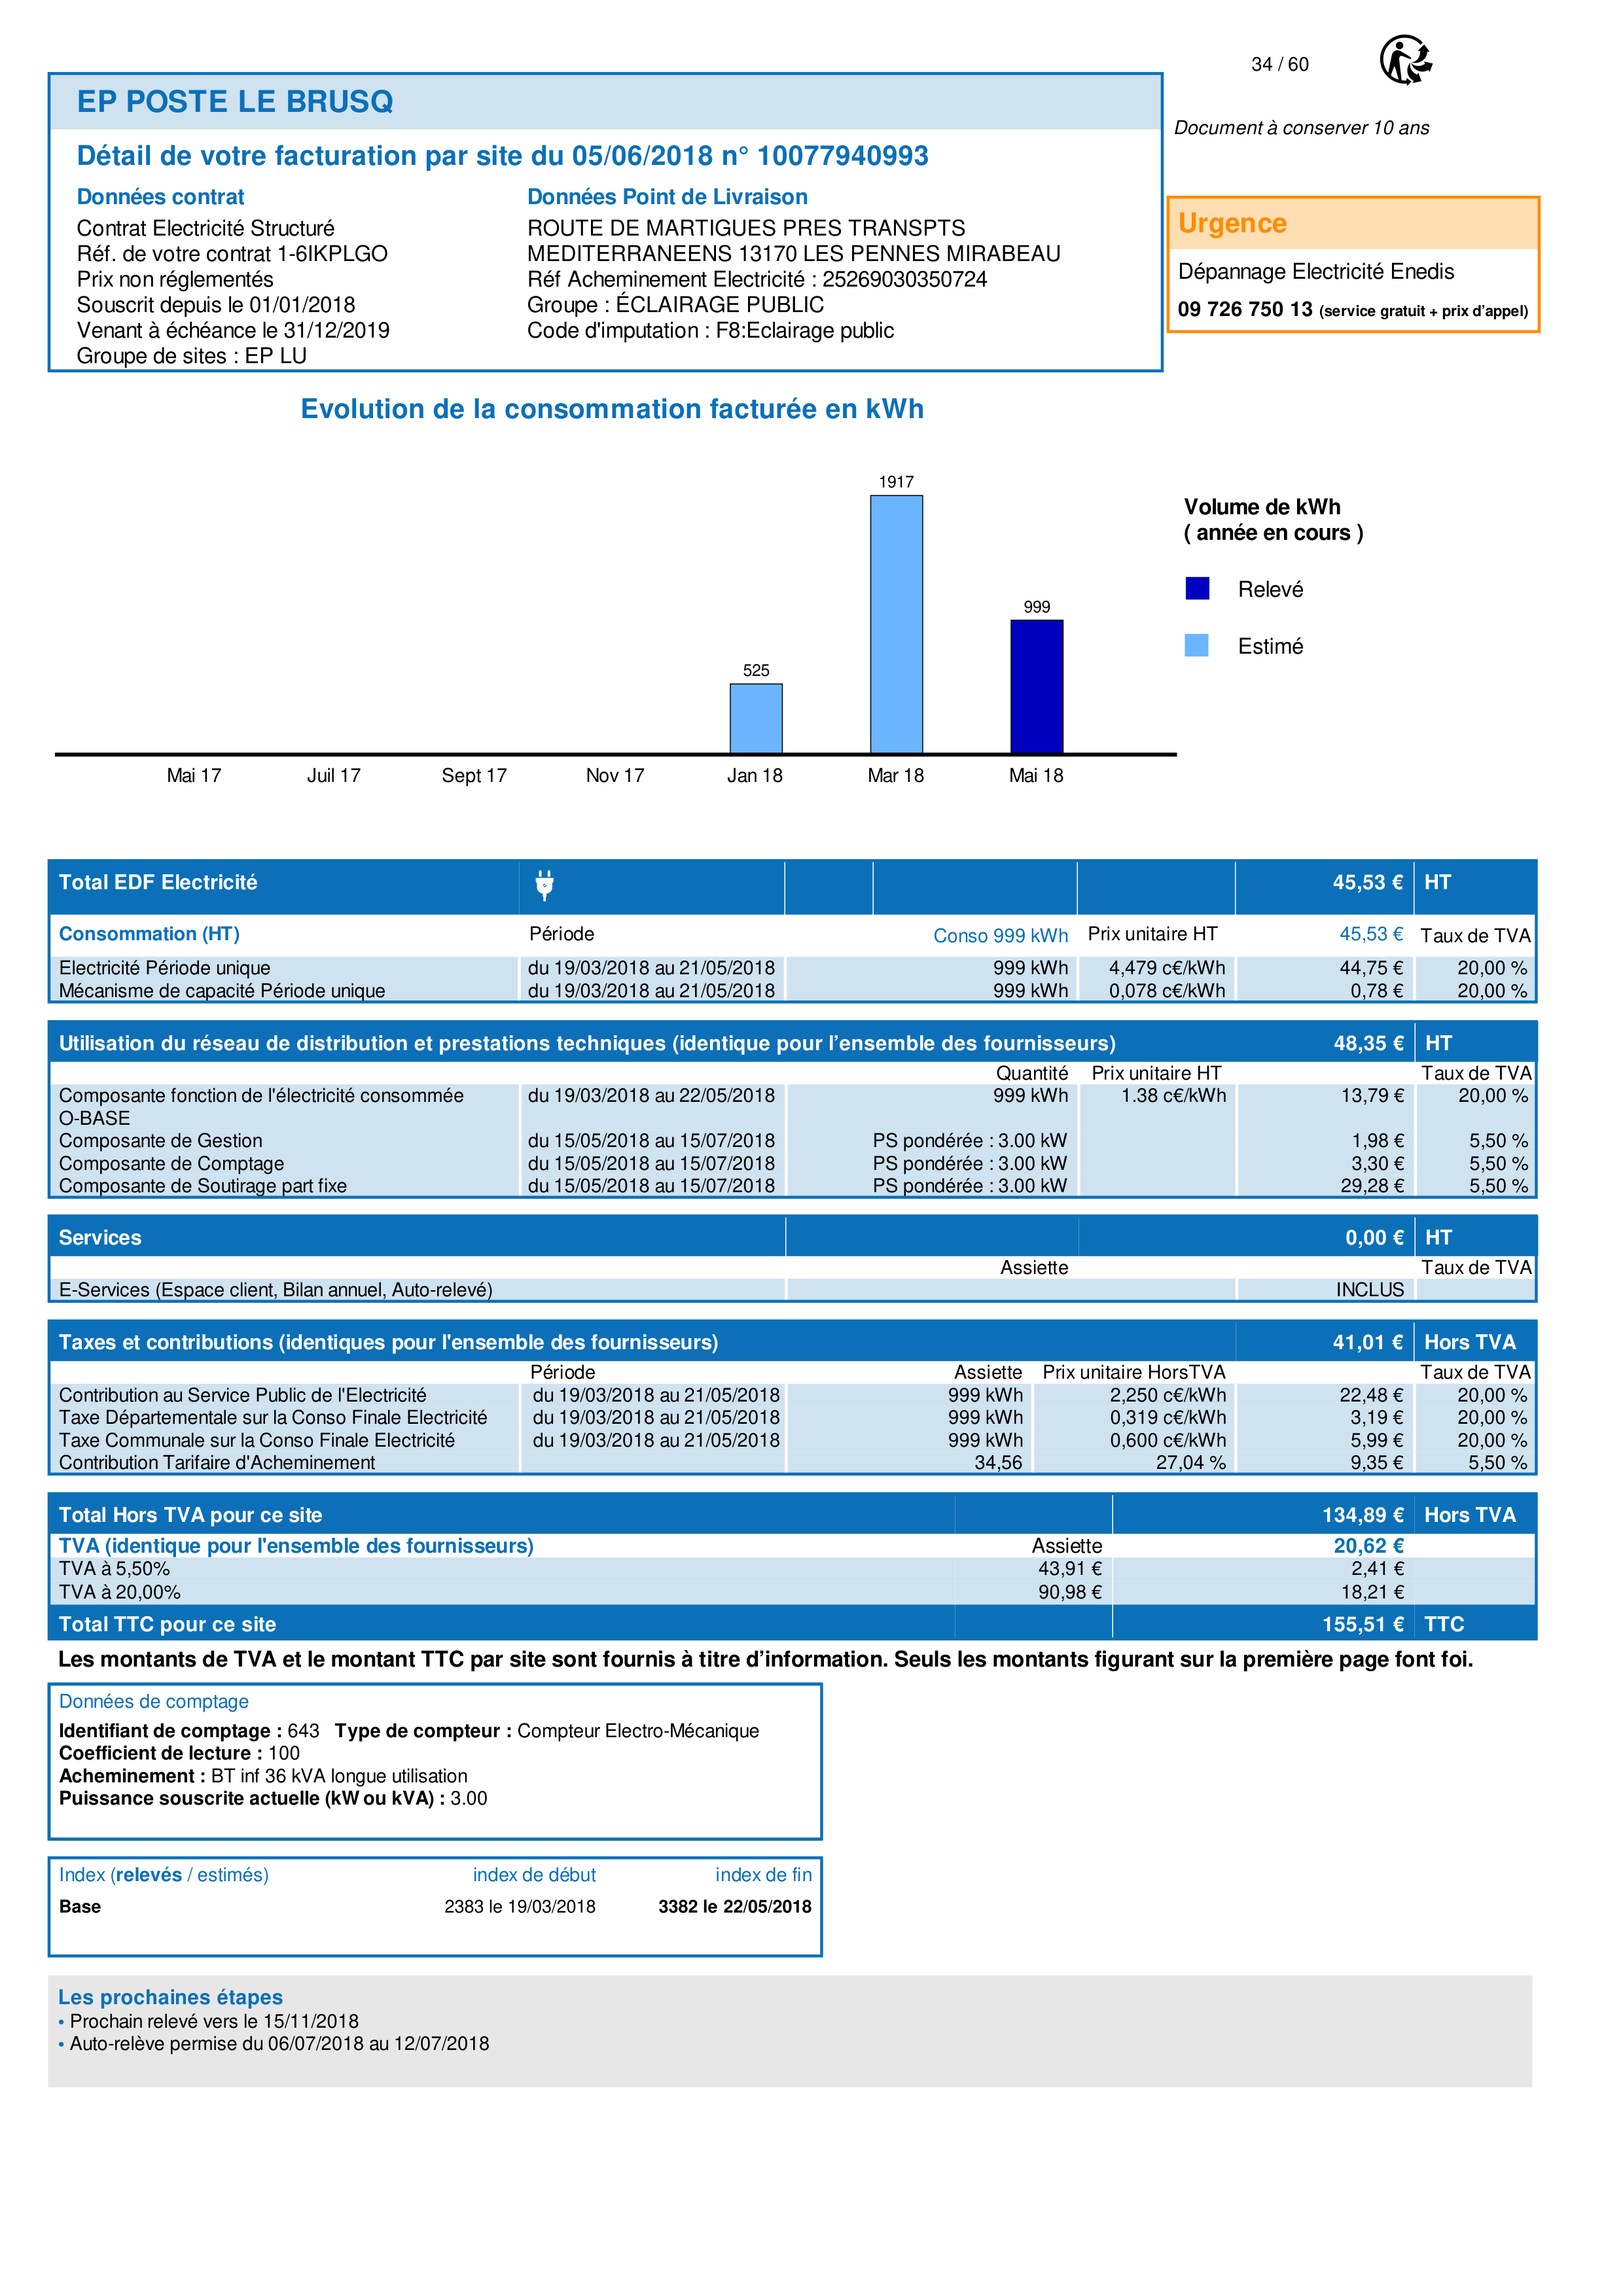area: (47, 1856, 822, 1957)
type_indicator: (48, 1859, 281, 1892)
